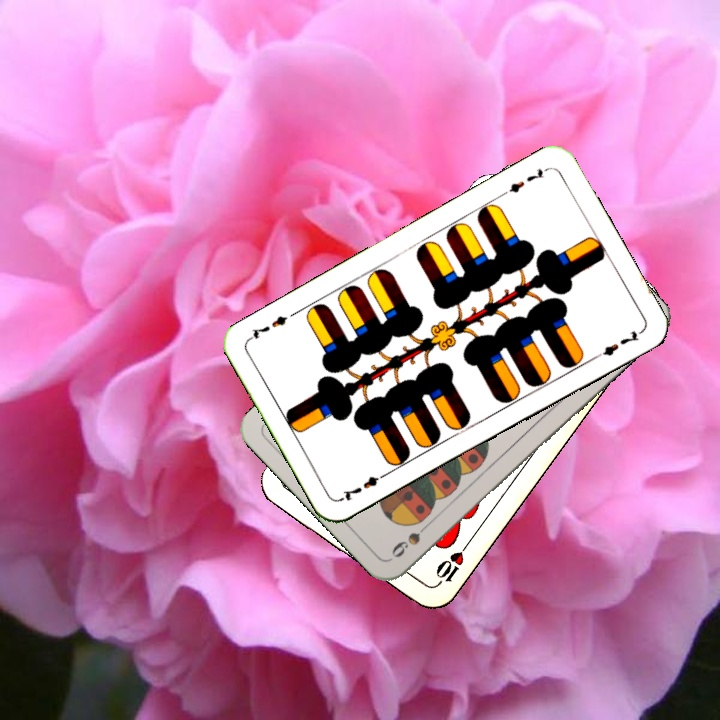E7: (337, 468, 391, 504), (497, 163, 551, 199)
H10: (431, 539, 472, 590)
S9: (387, 516, 436, 561)
